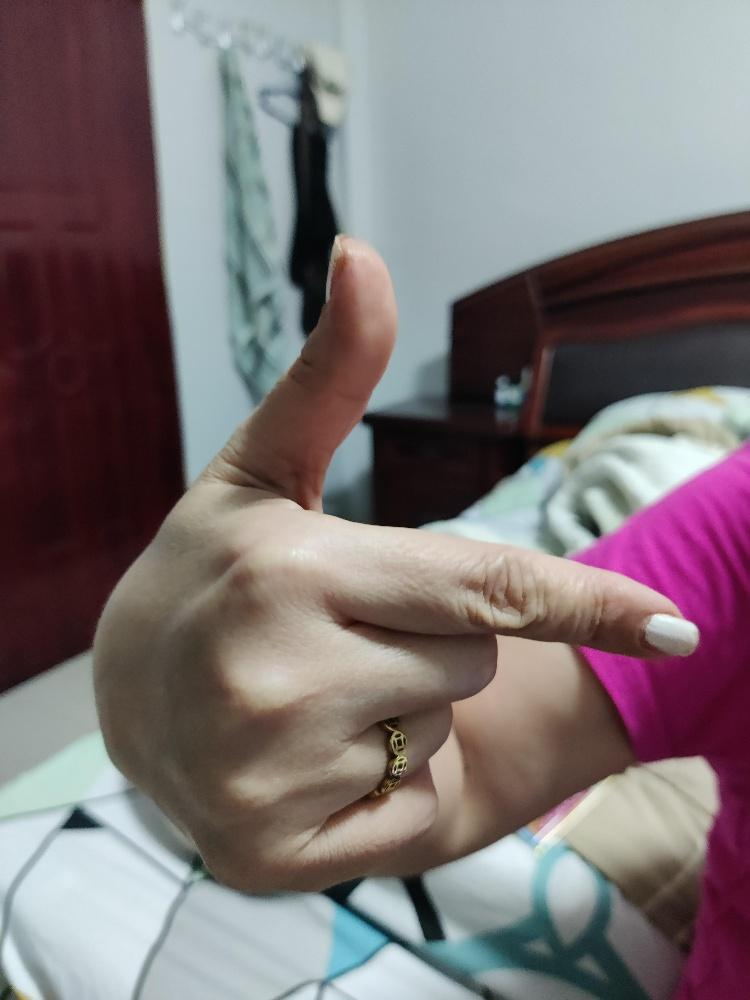g: (89, 234, 699, 901)
